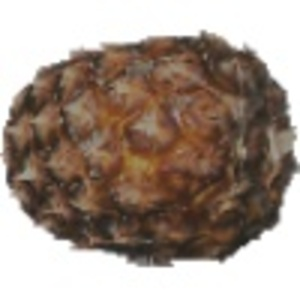abacaxi: (4, 9, 294, 258)
